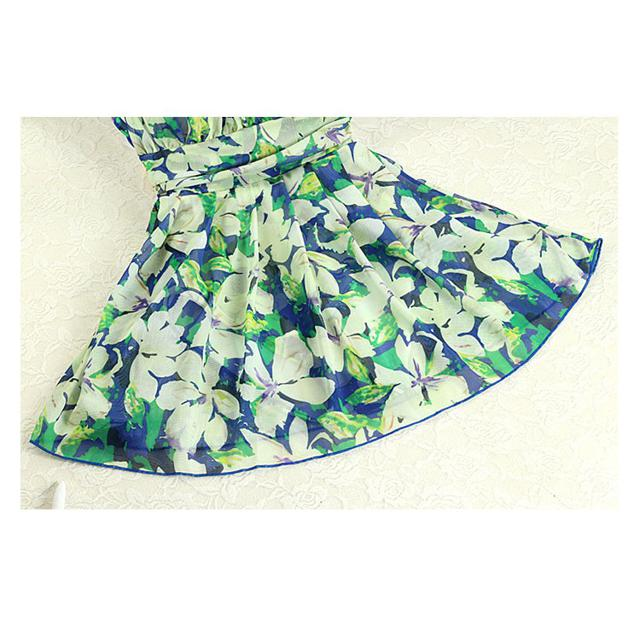Dresses: (21, 121, 604, 472)
